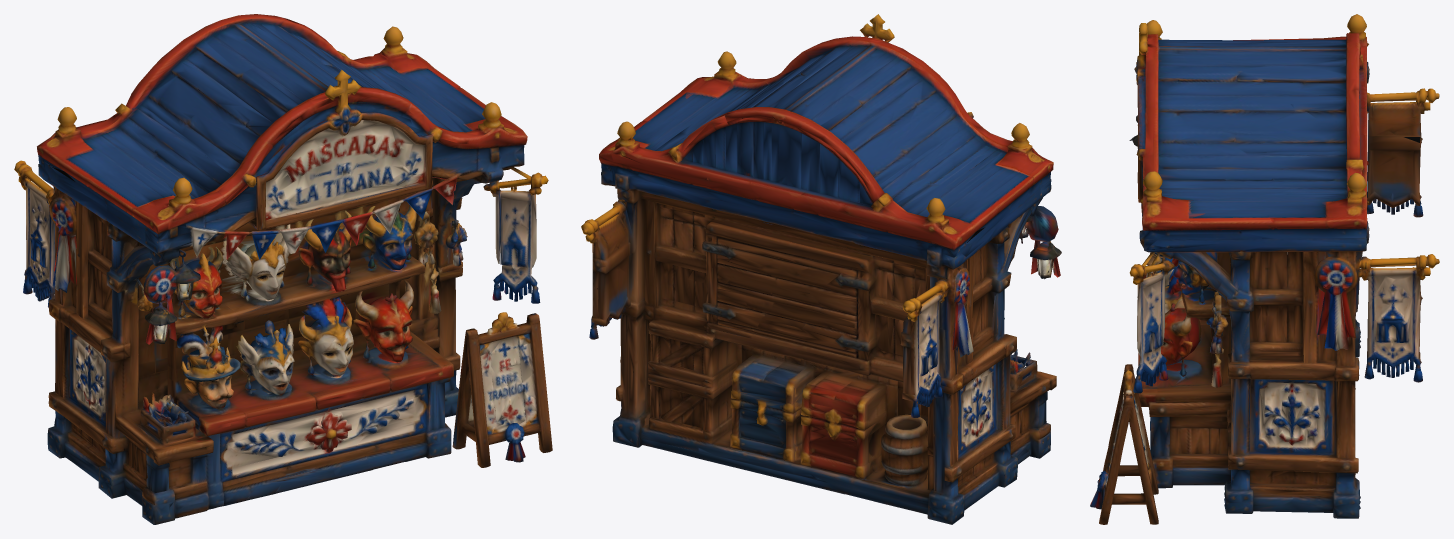
File: mascaras_de_carnaval.glb
3 renders of one model, left to right at view 1: azimuth 30°, elevation 25°; view 2: azimuth 150°, elevation 25°; view 3: azimuth 270°, elevation 25°, orthographic. The views are drawn at different scales.
Visible parts, largest first — view 1: mascaras_de_carnaval; view 2: mascaras_de_carnaval; view 3: mascaras_de_carnaval.
Boxes of the visible parts, x1,y1,x2,y2 form: mascaras_de_carnaval: (14, 14, 552, 524); mascaras_de_carnaval: (581, 14, 1061, 524); mascaras_de_carnaval: (1090, 14, 1439, 524).
Size of what is drawn, in the model's own units: 2.3 by 2.3 by 1.77.
Materials: 1 (1 with a texture image).
